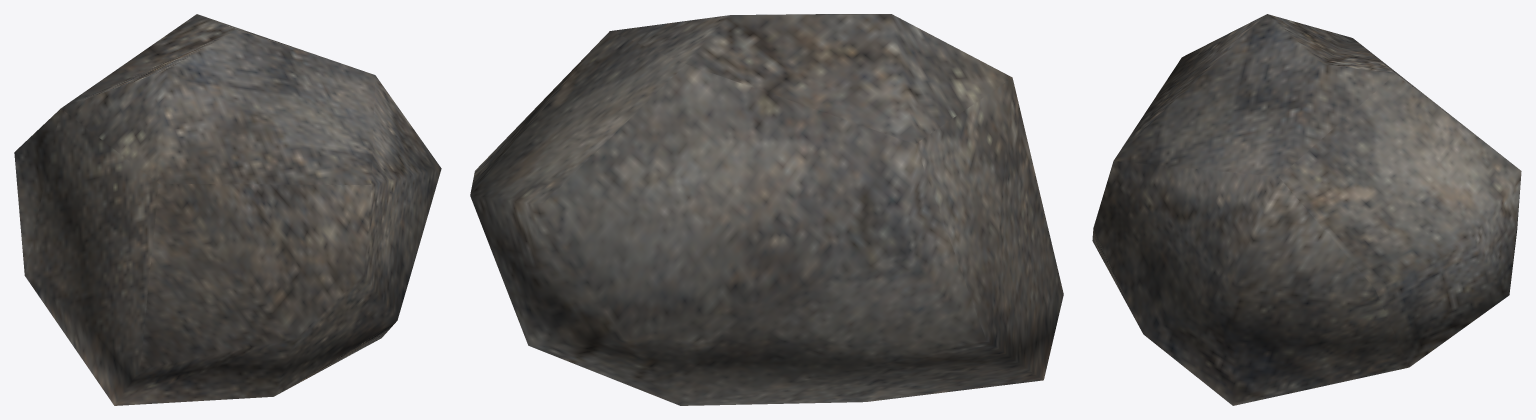
Rendered from RockSm2_4_LOD1.fbx.
The picture shows the model from 3 angles, left to right: view 1: azimuth 30°, elevation 25°; view 2: azimuth 150°, elevation 25°; view 3: azimuth 270°, elevation 25°; orthographic projection. The views are drawn at different scales.
Visible parts, largest first — view 1: polySurface226; view 2: polySurface226; view 3: polySurface226.
Part boxes in pixels (x1,y1,x2,y2): polySurface226: (14, 14, 441, 405); polySurface226: (470, 14, 1063, 405); polySurface226: (1092, 14, 1521, 405).
Size of the model in its own units: 78.67 by 60.14 by 78.66.
